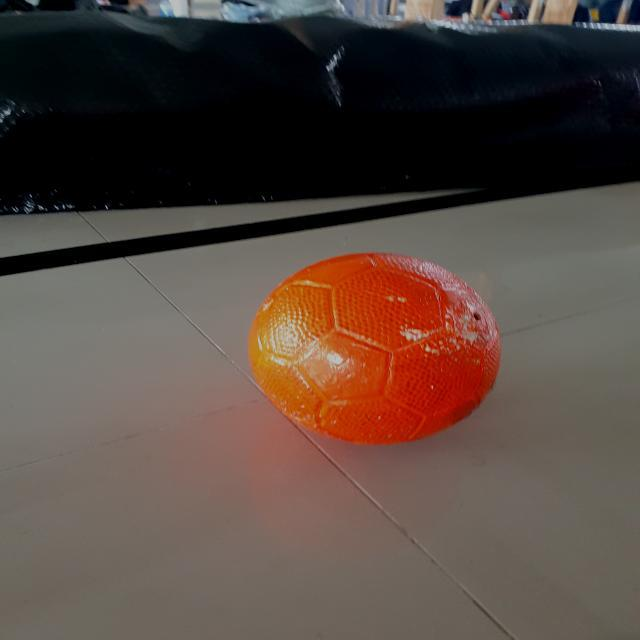bola: (244, 247, 510, 449)
